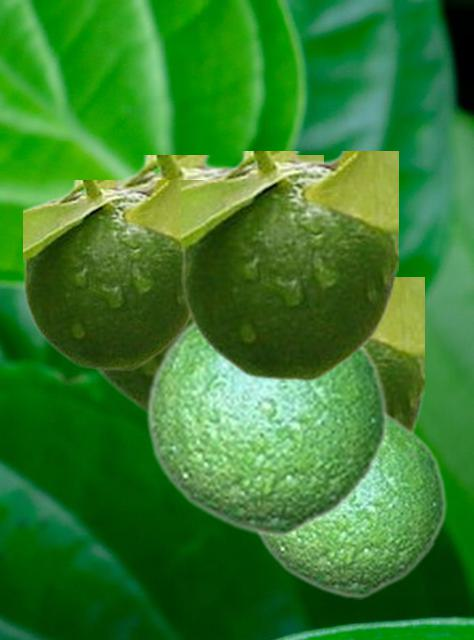dalandan: (91, 155, 322, 416), (144, 321, 388, 537), (181, 151, 397, 380), (253, 410, 446, 598), (23, 180, 190, 369), (367, 277, 423, 431)
